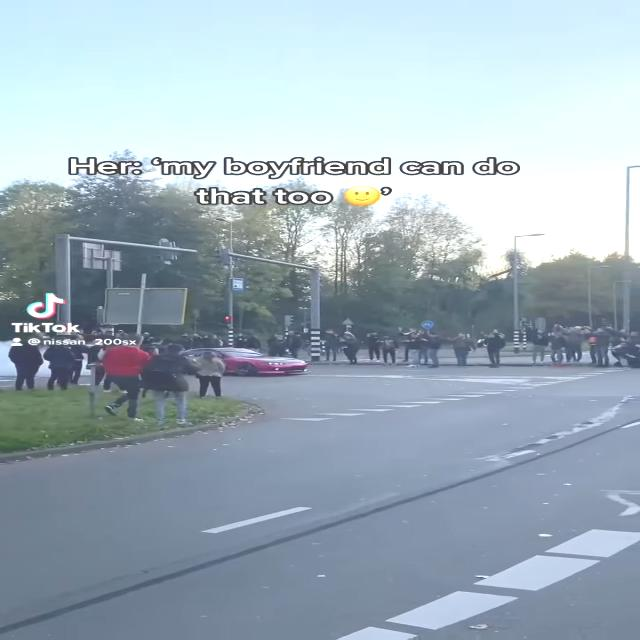car: (182, 345, 314, 385)
